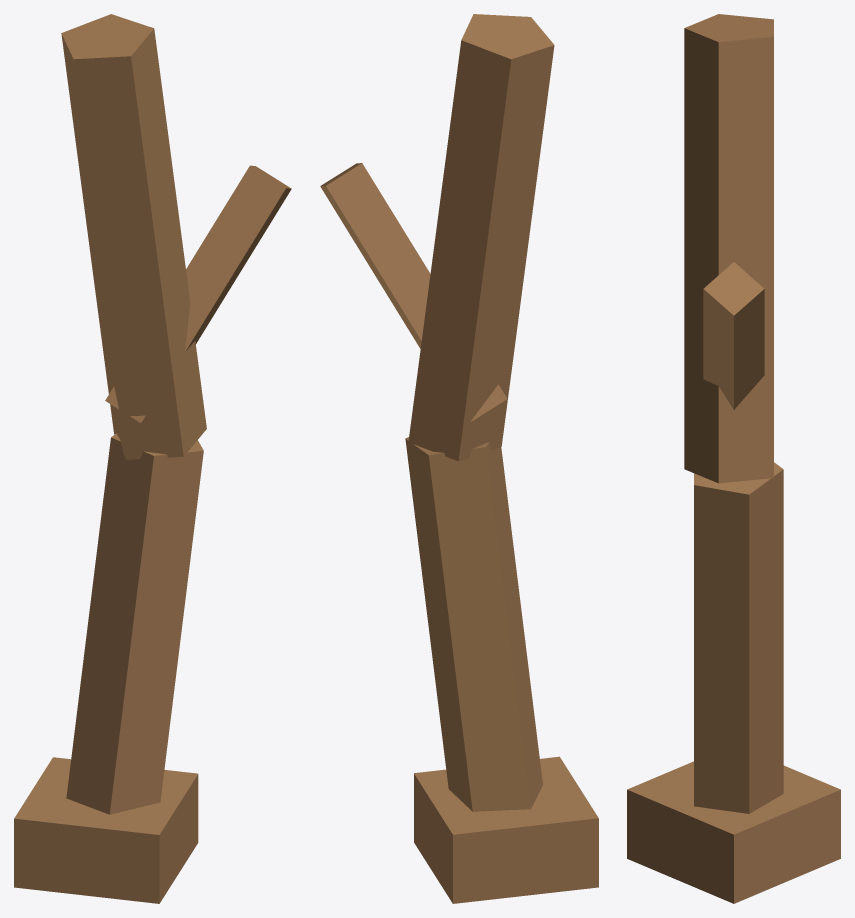
File: Forest_SignPost.fbx
3 renders of one model, left to right at view 1: azimuth 30°, elevation 25°; view 2: azimuth 150°, elevation 25°; view 3: azimuth 270°, elevation 25°, orthographic.
Parts seen in each view (by area): view 1: Forest_SignPost; view 2: Forest_SignPost; view 3: Forest_SignPost.
Part boxes in pixels (box(x1,y1,x2,y2)): Forest_SignPost: box(14, 14, 291, 903); Forest_SignPost: box(320, 14, 598, 903); Forest_SignPost: box(627, 14, 840, 903).
Size of the model in its own units: 42.19 by 122 by 28.
